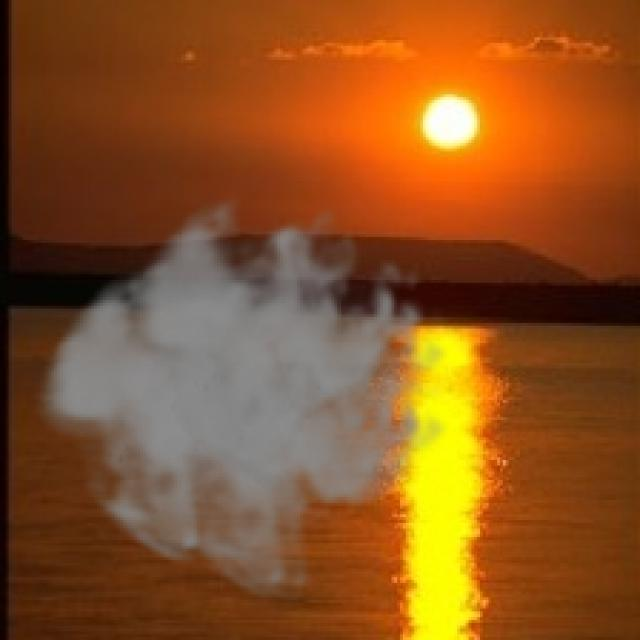smoke: (34, 183, 449, 606)
